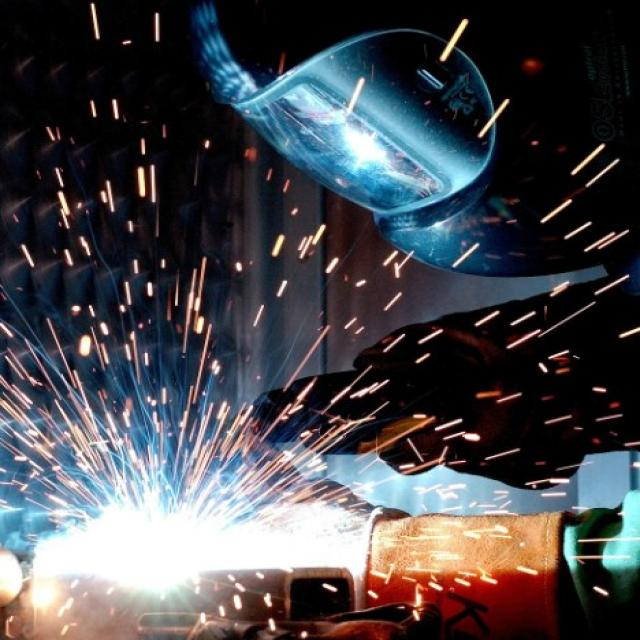welding: (84, 511, 242, 576)
